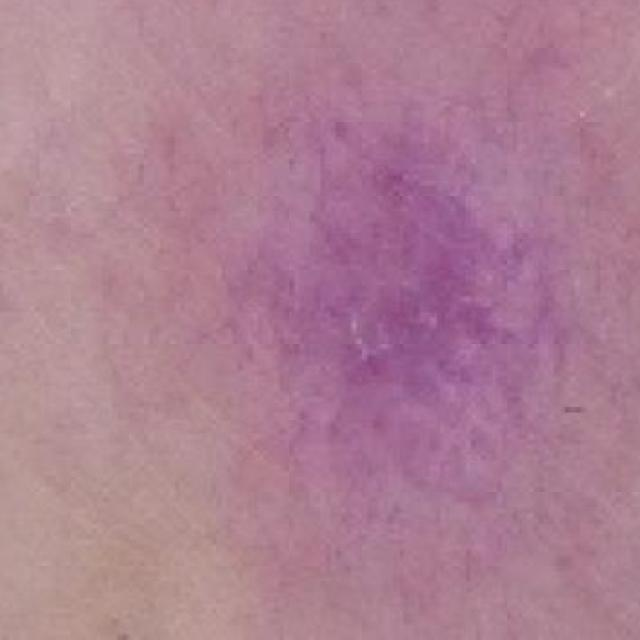VASC: (52, 0, 640, 451)
